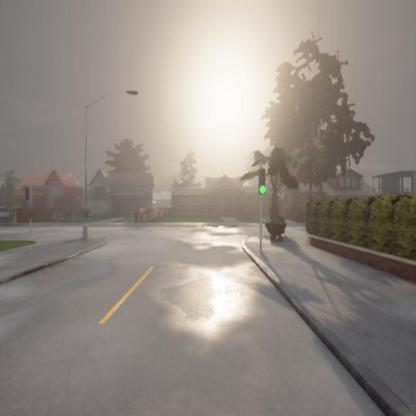traffic_light_green: (258, 167, 267, 194)
